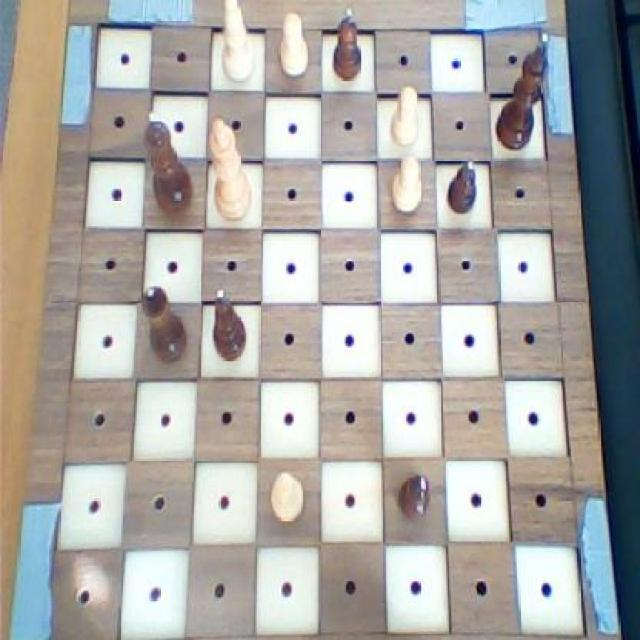bishop: (209, 284, 252, 360)
black-bishop: (491, 33, 555, 148)
black-knight: (328, 6, 364, 87), (443, 157, 480, 217), (394, 468, 433, 522)
black-pawn: (137, 109, 198, 218)
black-queen: (136, 277, 192, 365)
black-rook: (214, 0, 252, 85)
white-bishop: (207, 115, 256, 228)
white-knight: (272, 8, 315, 80), (268, 468, 308, 528), (389, 156, 425, 218), (386, 83, 419, 148)
